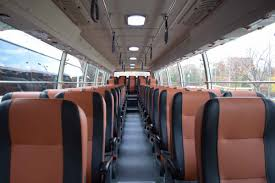seat: (171, 92, 214, 177)
